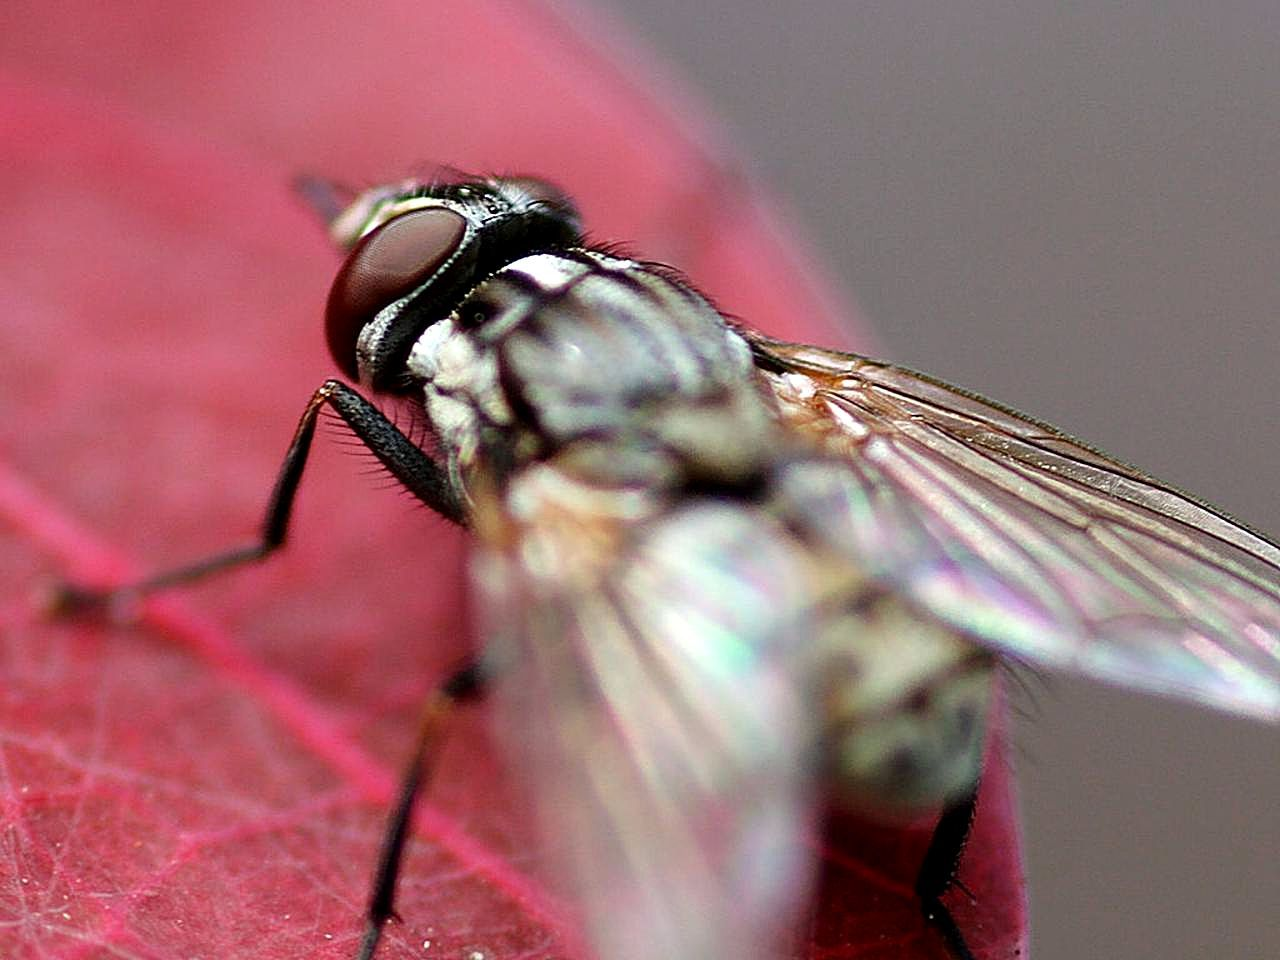fly: (55, 157, 1279, 956)
